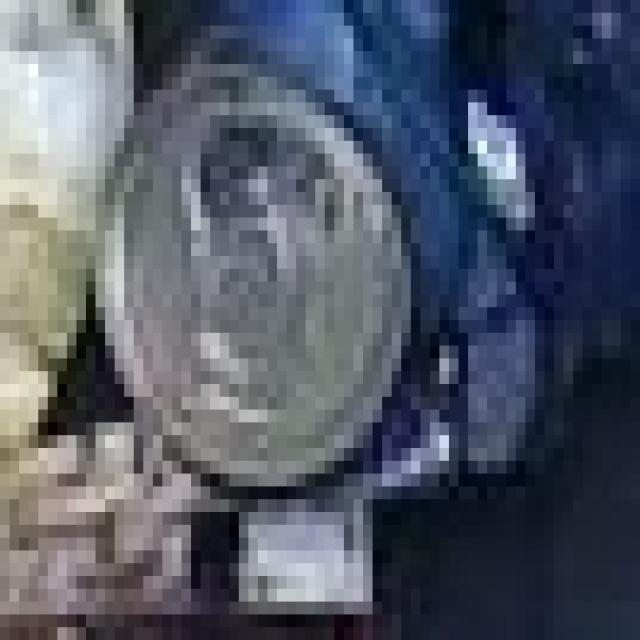can: (46, 0, 640, 551)
